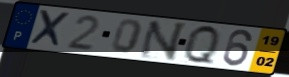0: (110, 18, 145, 56)
2: (65, 14, 103, 52)
6: (221, 29, 254, 67)
N: (136, 20, 190, 62)
Q: (183, 23, 222, 68)
X: (27, 8, 72, 49)
